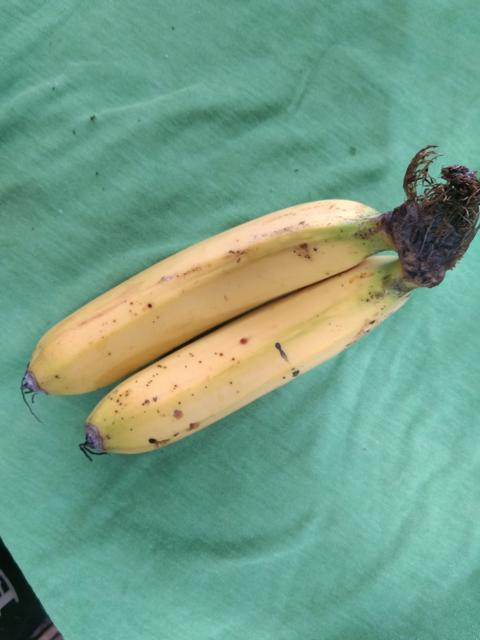ripe: (18, 188, 381, 399), (77, 261, 400, 467)
